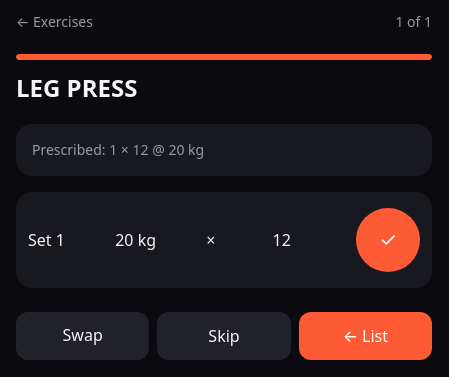
SessionExercise — logging a set › tapping ✓ logs the set as done, greys the row, and starts the rest timer
The image size is (449, 377).
Click the button named "Log set 1": point(388, 240) [356,208,420,272]
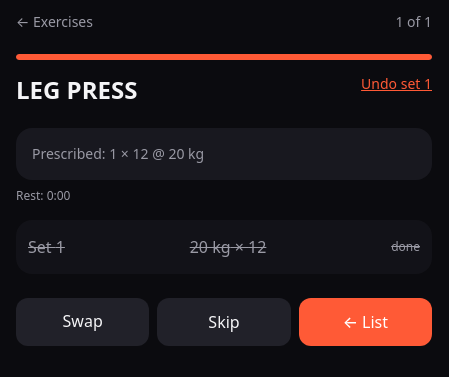
Result: the text "done" is shown at [391,239,420,255]
Result: the text "Rest: 0:00" is shown at [16,187,70,204]
